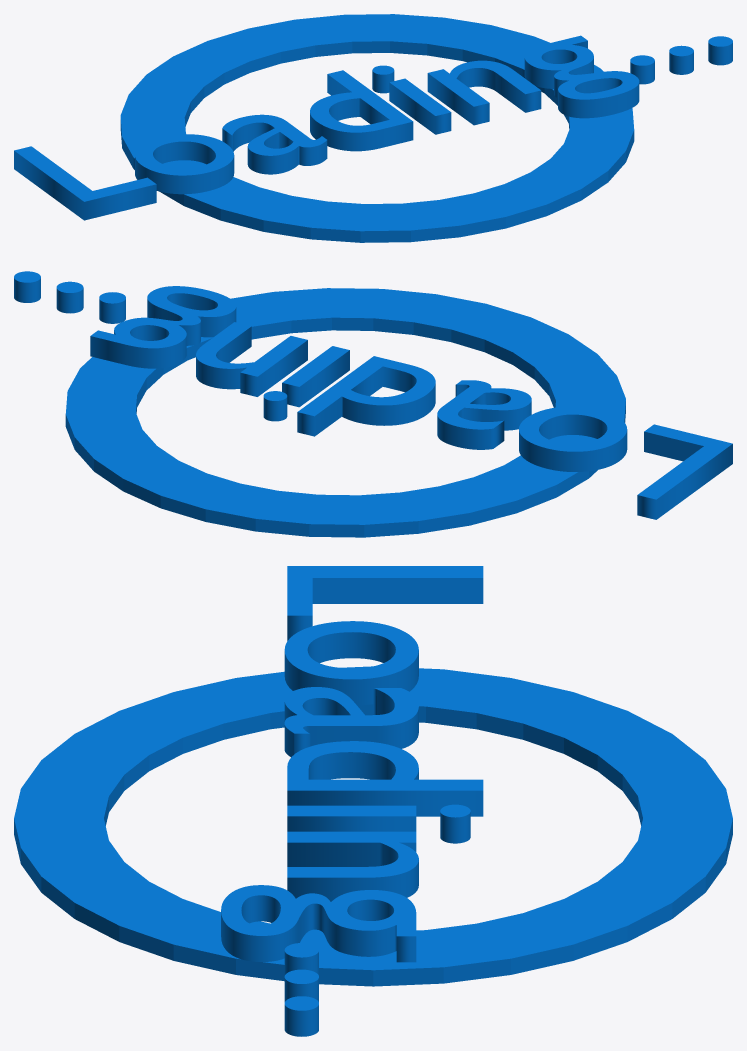
File: Download.glb
3 renders of one model, top to bottom at view 1: azimuth 30°, elevation 25°; view 2: azimuth 150°, elevation 25°; view 3: azimuth 270°, elevation 25°, orthographic. The views are drawn at different scales.
Parts seen in each view (by area): view 1: Cube, Text; view 2: Cube, Text; view 3: Cube, Text.
Part boxes in pixels (bbox=[...]): Cube: bbox=[120, 14, 634, 242]; Text: bbox=[14, 35, 732, 220]; Cube: bbox=[65, 288, 625, 537]; Text: bbox=[14, 271, 732, 519]; Cube: bbox=[14, 666, 732, 986]; Text: bbox=[221, 566, 483, 1036].
Bounding box in the file's own units: 0.3658 × 0.0183 × 0.25.
